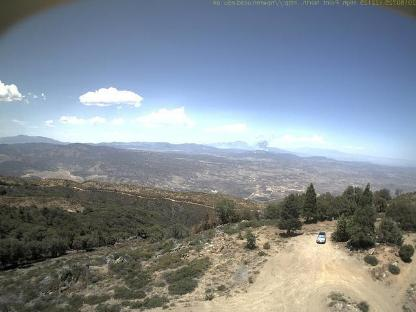smoke: (248, 135, 276, 151)
